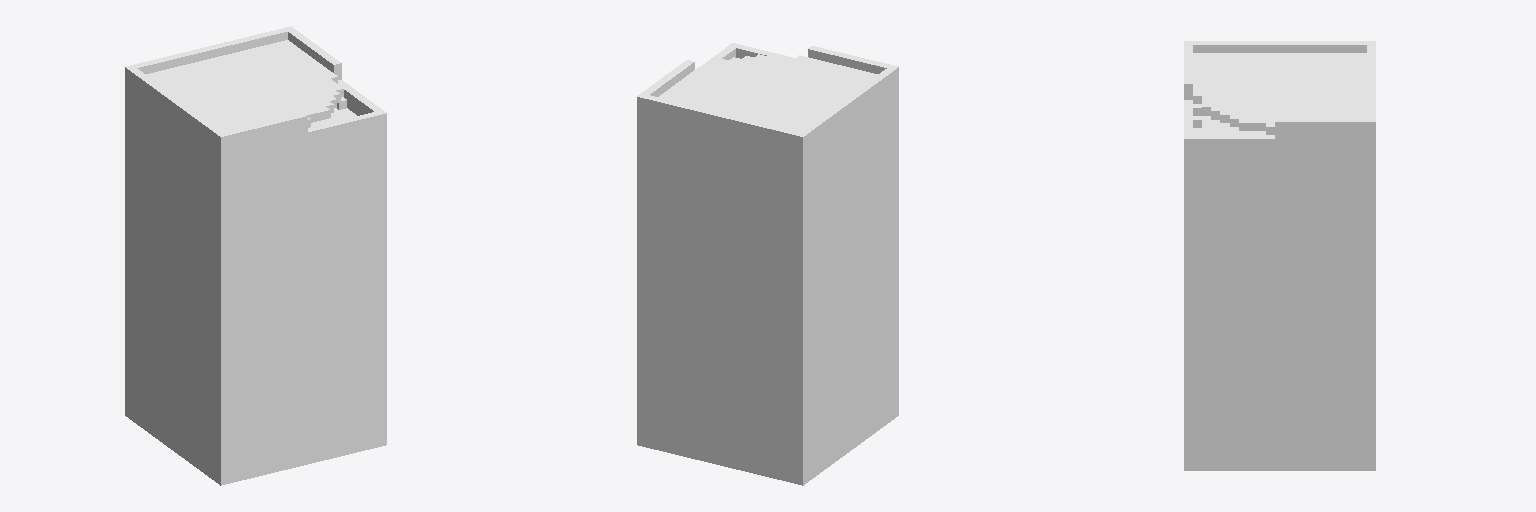
Rendered from scramblescare.obj.
The picture shows the model from 3 angles: view 1: azimuth 30°, elevation 25°; view 2: azimuth 150°, elevation 25°; view 3: azimuth 270°, elevation 25°; orthographic projection.
Visible parts, largest first — view 1: object 1; view 2: object 1; view 3: object 1.
Boxes of the visible parts, x1=… form: object 1: x1=125, y1=26, x2=386, y2=485; object 1: x1=637, y1=43, x2=898, y2=485; object 1: x1=1184, y1=41, x2=1375, y2=470.
Bounding box in the file's own units: 4.2 × 8.4 × 4.2.